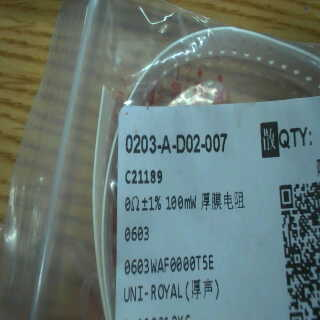0R: (122, 189, 203, 240)
